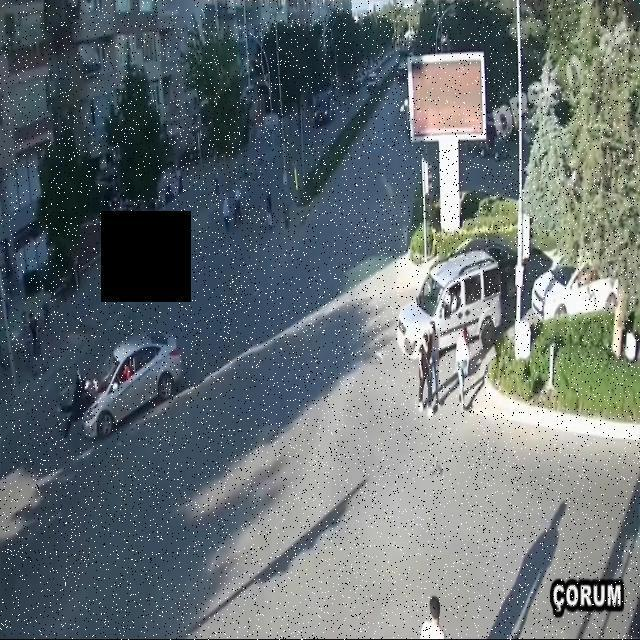vehicle: (45, 332, 204, 461)
